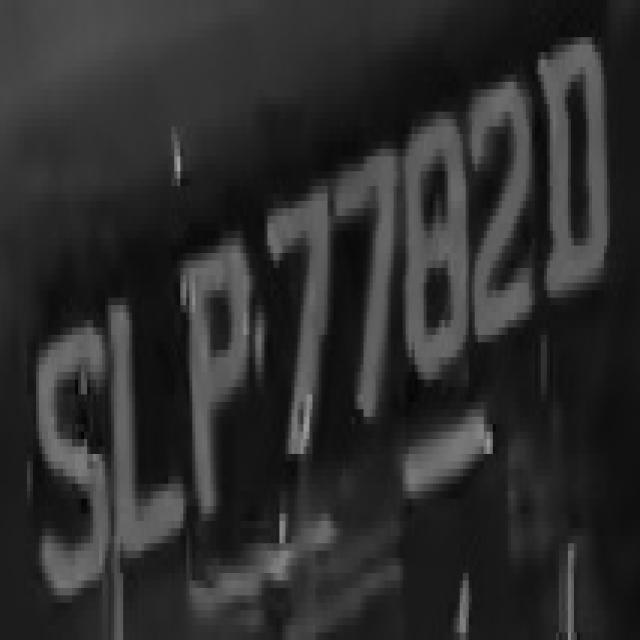2: (463, 67, 538, 387)
7: (322, 134, 402, 446), (256, 186, 336, 469)
8: (400, 104, 474, 387)
D: (538, 30, 619, 327)
L: (105, 275, 186, 551)
P: (178, 224, 270, 544)
S: (30, 313, 108, 610)
